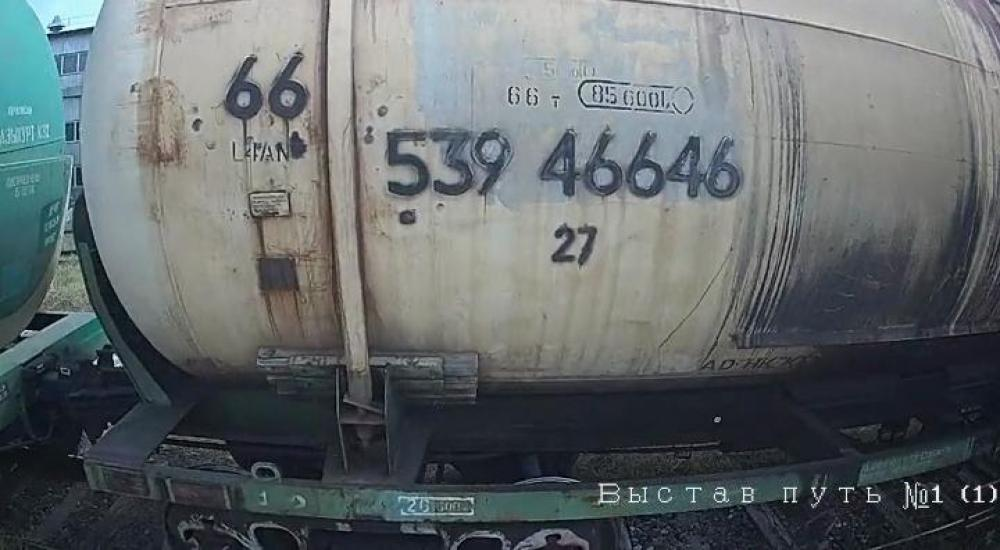Wagon-number: (378, 124, 752, 205)
